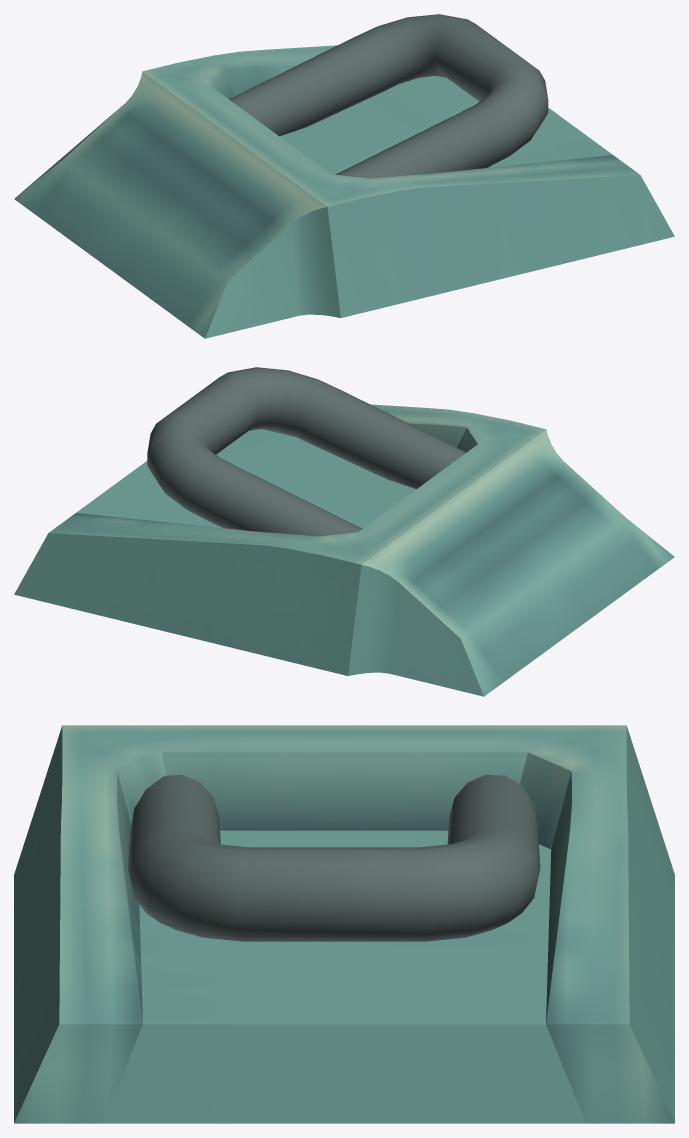
Rendered from BenchVise.gltf.
The picture shows the model from 3 angles, top to bottom: view 1: azimuth 30°, elevation 25°; view 2: azimuth 150°, elevation 25°; view 3: azimuth 270°, elevation 25°; orthographic projection. The views are drawn at different scales.
Visible parts, largest first — view 1: Prop_Clamp; view 2: Prop_Clamp; view 3: Prop_Clamp.
Part boxes in pixels (<box>): Prop_Clamp: <box>14,14,674,338</box>; Prop_Clamp: <box>14,367,674,696</box>; Prop_Clamp: <box>14,725,674,1123</box>.
Size of the model in its own units: 0.5605 by 0.1617 by 0.4602.
2 materials, 2 textured.
